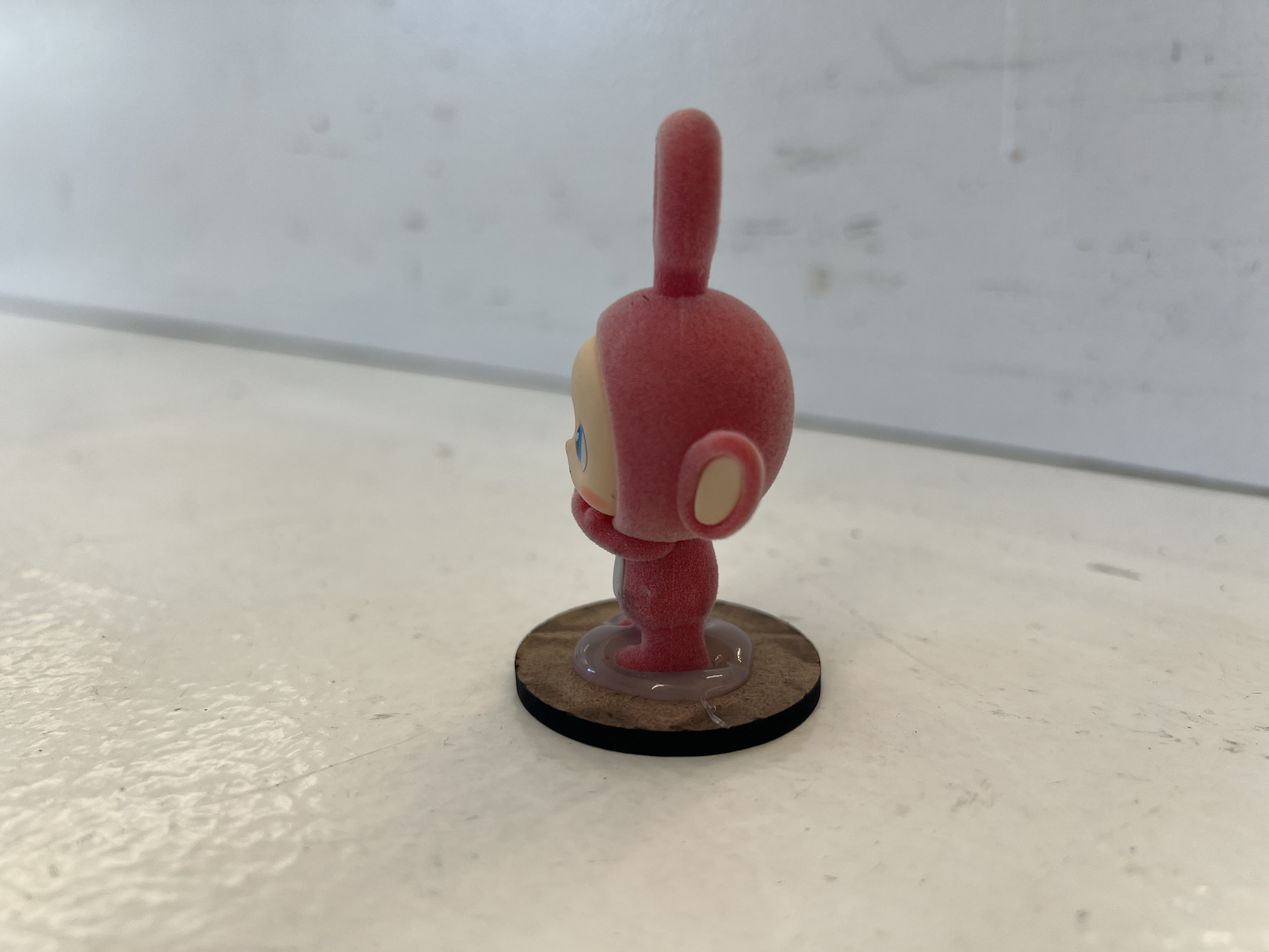teletubby: (566, 110, 794, 672)
